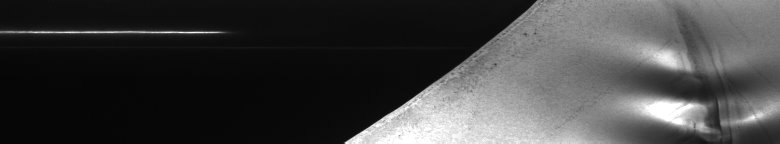ke: (647, 62, 768, 136)
